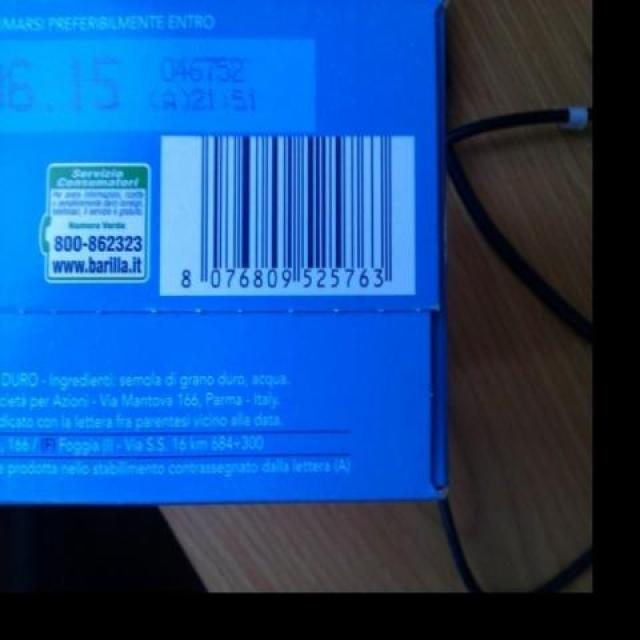Barcode: (161, 136, 412, 292)
